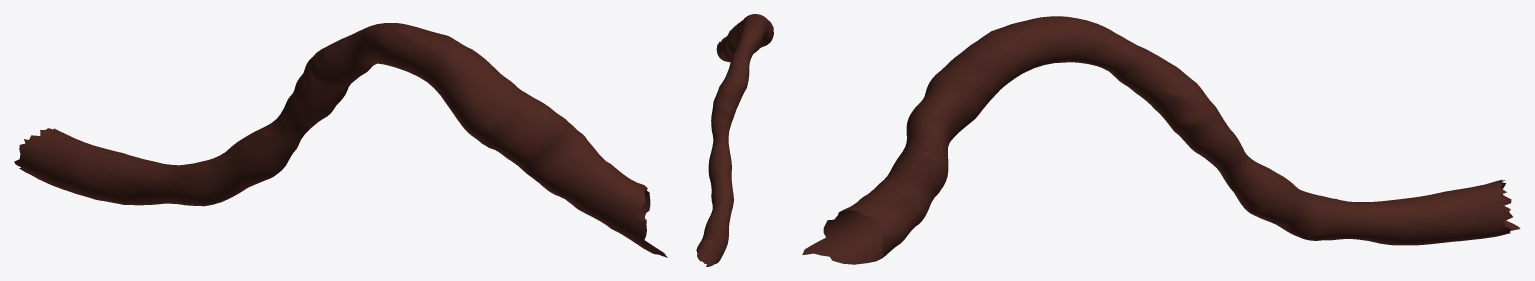
File: renal_veva.obj
The picture shows the model from 3 angles, left to right: view 1: azimuth 30°, elevation 25°; view 2: azimuth 150°, elevation 25°; view 3: azimuth 270°, elevation 25°; orthographic projection. The views are drawn at different scales.
Size of the model in its own units: 66 by 54.8 by 128.
